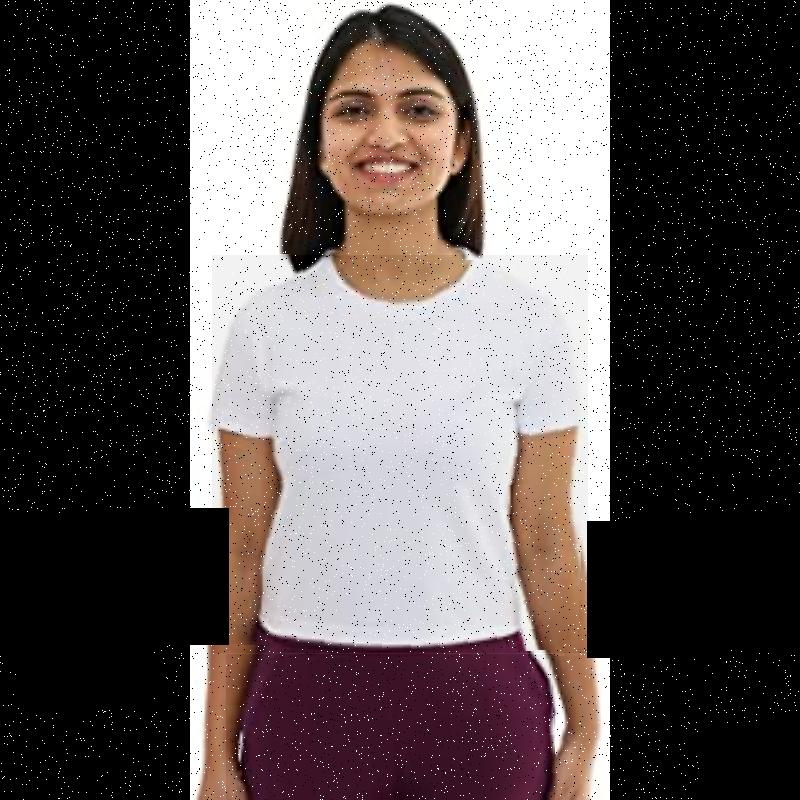Pant: (226, 654, 555, 800)
Tshirt: (212, 255, 588, 653)
